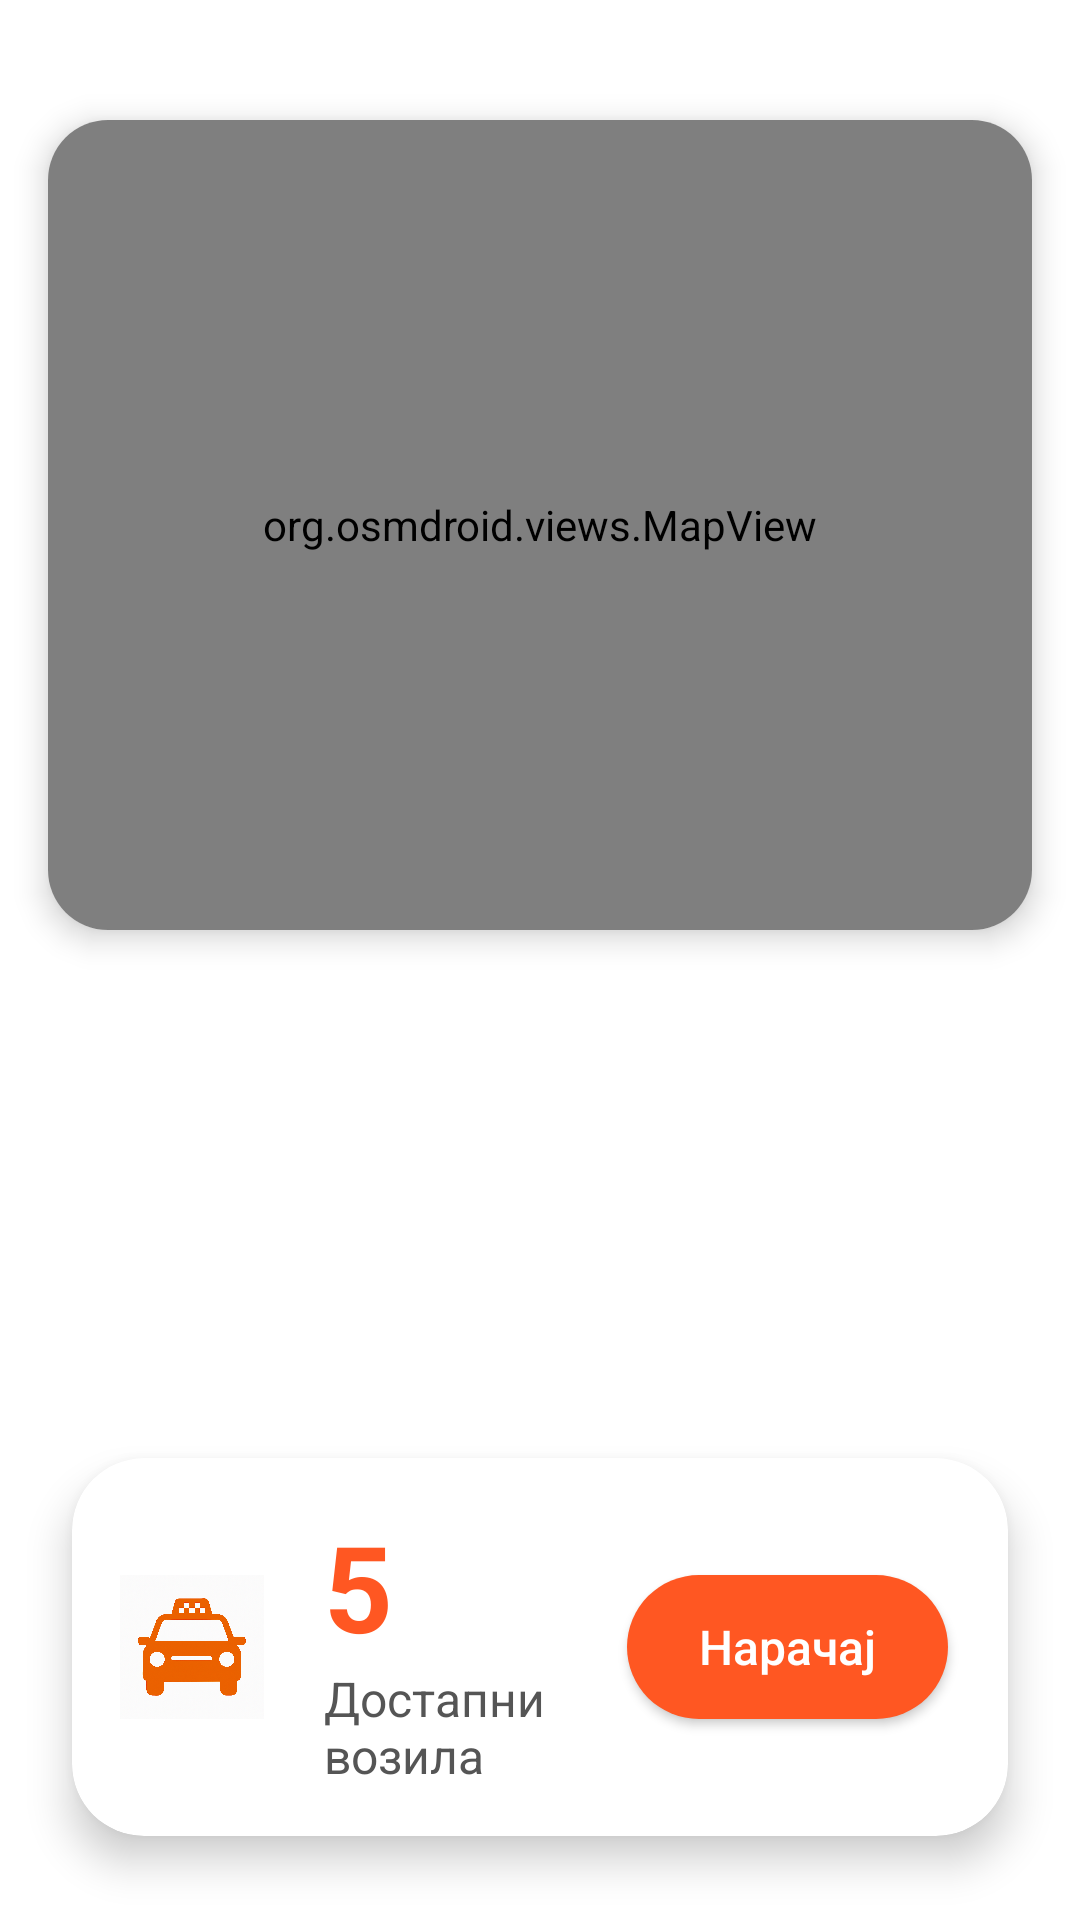

Screen size 1080 × 1920. Icon name, then its box in pixels as detection(x1, y1, x2, y2):
Икона на возило: detection(138, 1598, 246, 1696)
